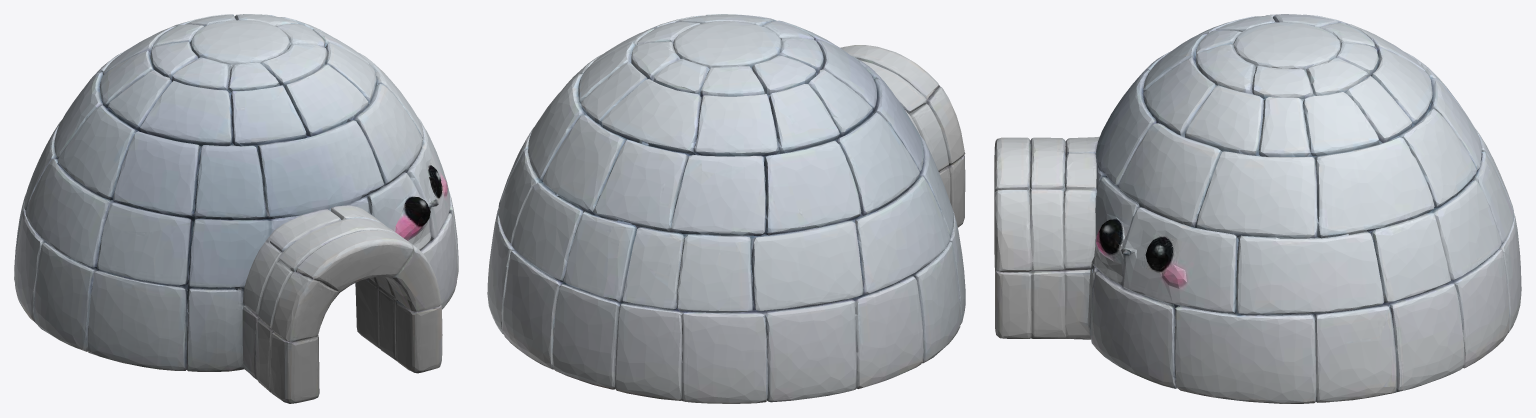
The model's file is igloo.glb.
3 views of the same model, side by side, from view 1: azimuth 30°, elevation 25°; view 2: azimuth 150°, elevation 25°; view 3: azimuth 270°, elevation 25° (orthographic). The views are drawn at different scales.
Visible parts, largest first — view 1: geometry_0; view 2: geometry_0; view 3: geometry_0.
Boxes of the visible parts, x1,y1,x2,y2 form: geometry_0: (14,14,458,403); geometry_0: (487,14,965,403); geometry_0: (994,14,1521,403).
Bounding box in the file's own units: 0.911 × 0.5557 × 0.9967.
Materials: 1 (1 with a texture image).
